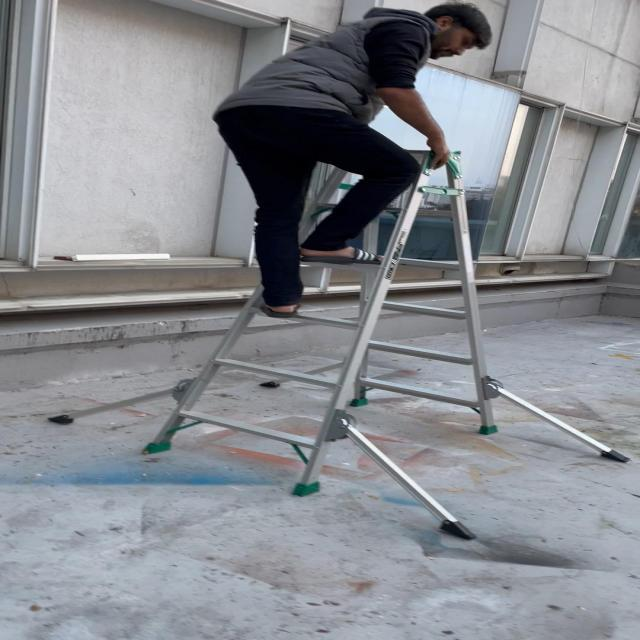boots: (39, 143, 634, 541)
vest: (208, 0, 492, 324)
